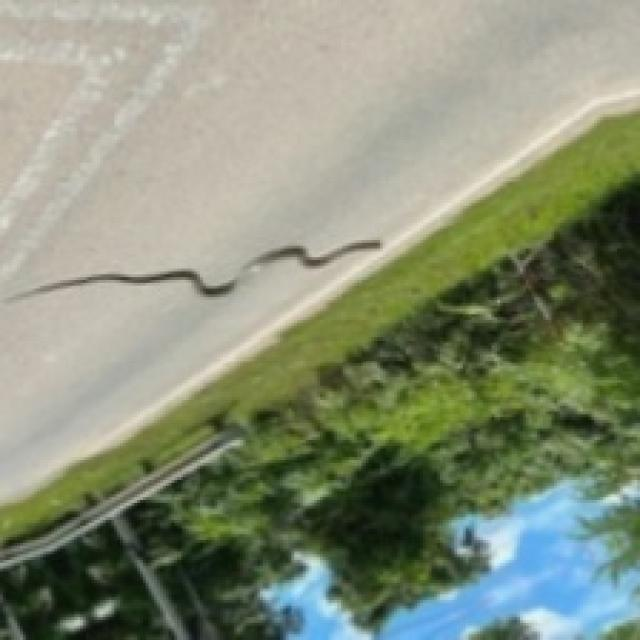king cobra: (6, 269, 234, 300), (240, 240, 380, 271)
